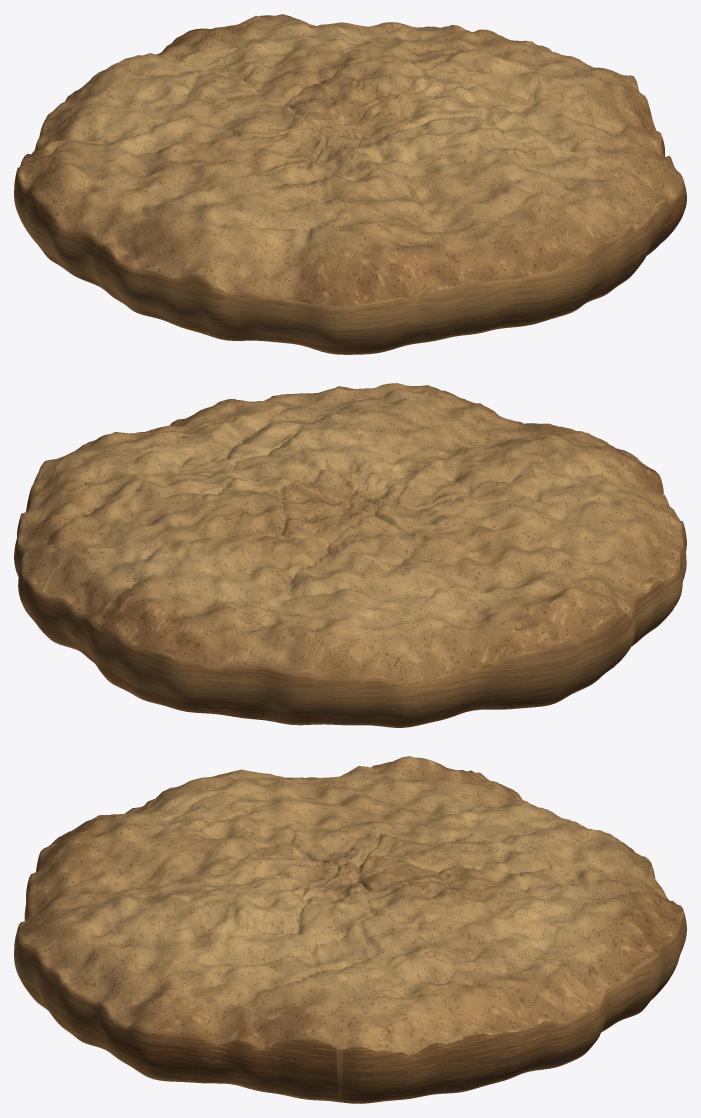
Rendered from oat.glb.
3 renders of one model, top to bottom at view 1: azimuth 30°, elevation 25°; view 2: azimuth 150°, elevation 25°; view 3: azimuth 270°, elevation 25°, orthographic. The views are drawn at different scales.
Parts seen in each view (by area): view 1: Builder dough | oat; view 2: Builder dough | oat; view 3: Builder dough | oat.
Boxes of the visible parts, x1=… form: Builder dough | oat: x1=14, y1=14, x2=686, y2=354; Builder dough | oat: x1=14, y1=383, x2=686, y2=727; Builder dough | oat: x1=14, y1=756, x2=686, y2=1103.
Size of the model in its own units: 4.99 by 0.8773 by 4.98.
Materials: 2 (2 with a texture image).
